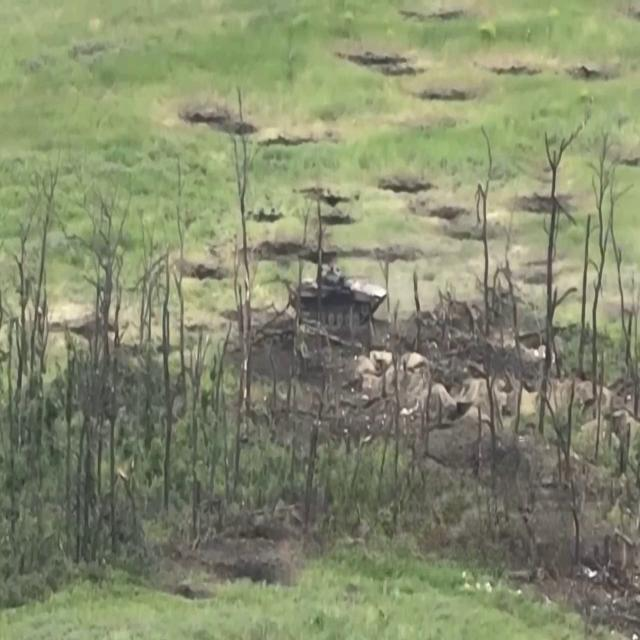AIFV: (289, 263, 389, 331)
